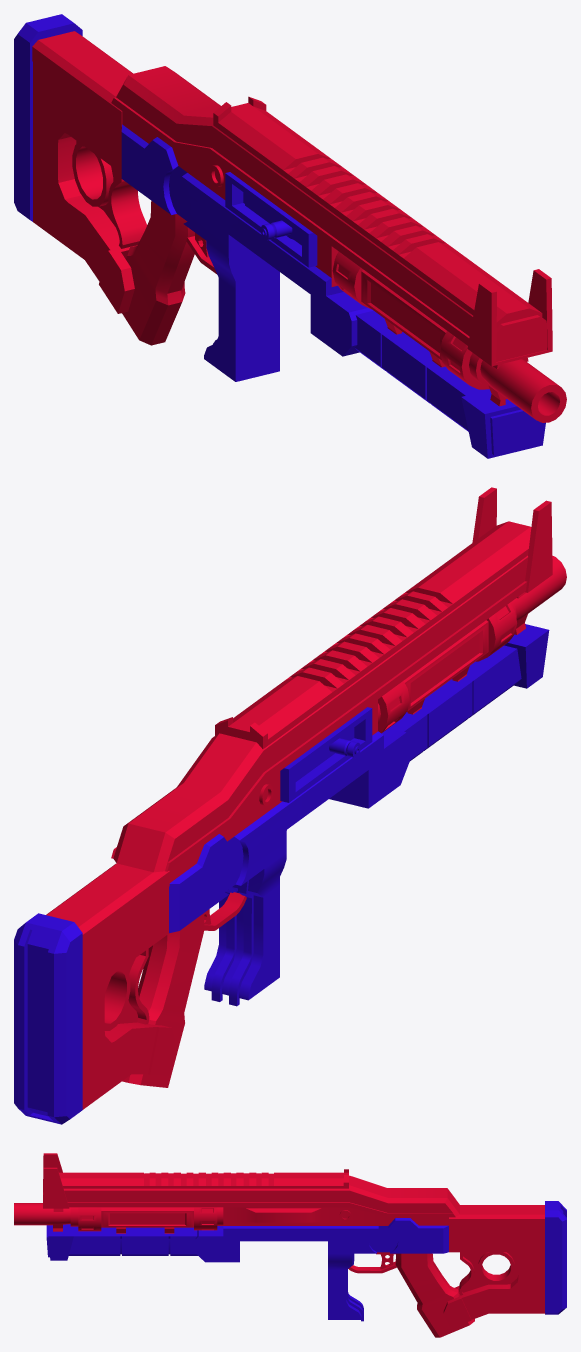
File: shotgun.fbx
3 views of the same model, one above another, from view 1: azimuth 30°, elevation 25°; view 2: azimuth 150°, elevation 25°; view 3: azimuth 270°, elevation 25° (orthographic). The views are drawn at different scales.
Visible parts, largest first — view 1: Main, huinya, Zat; view 2: Main, huinya, Zat; view 3: Main, huinya.
Part boxes in pixels (left/top/right/bottom): Main: left=14, top=14, right=566, bottom=458; huinya: left=213, top=96, right=542, bottom=327; Zat: left=243, top=192, right=301, bottom=245; Main: left=14, top=487, right=566, bottom=1124; huinya: left=215, top=521, right=531, bottom=748; Zat: left=295, top=727, right=360, bottom=781; Main: left=14, top=1153, right=566, bottom=1337; huinya: left=59, top=1169, right=348, bottom=1188.
Bounding box in the file's own units: 6.1 × 23.75 × 68.1.
